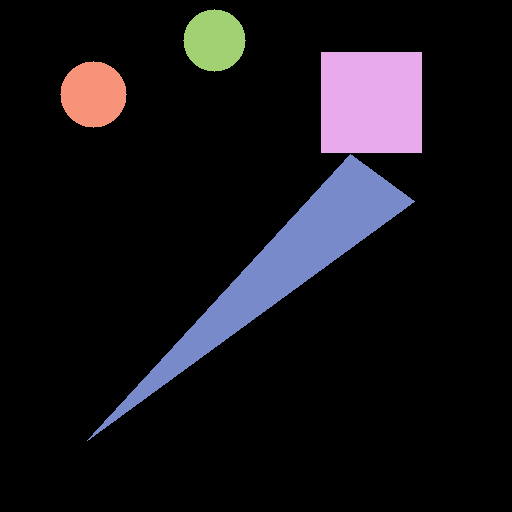circle: (60, 61, 126, 127), (183, 9, 245, 71)
square: (321, 52, 421, 152)
triangle: (87, 154, 414, 440)
